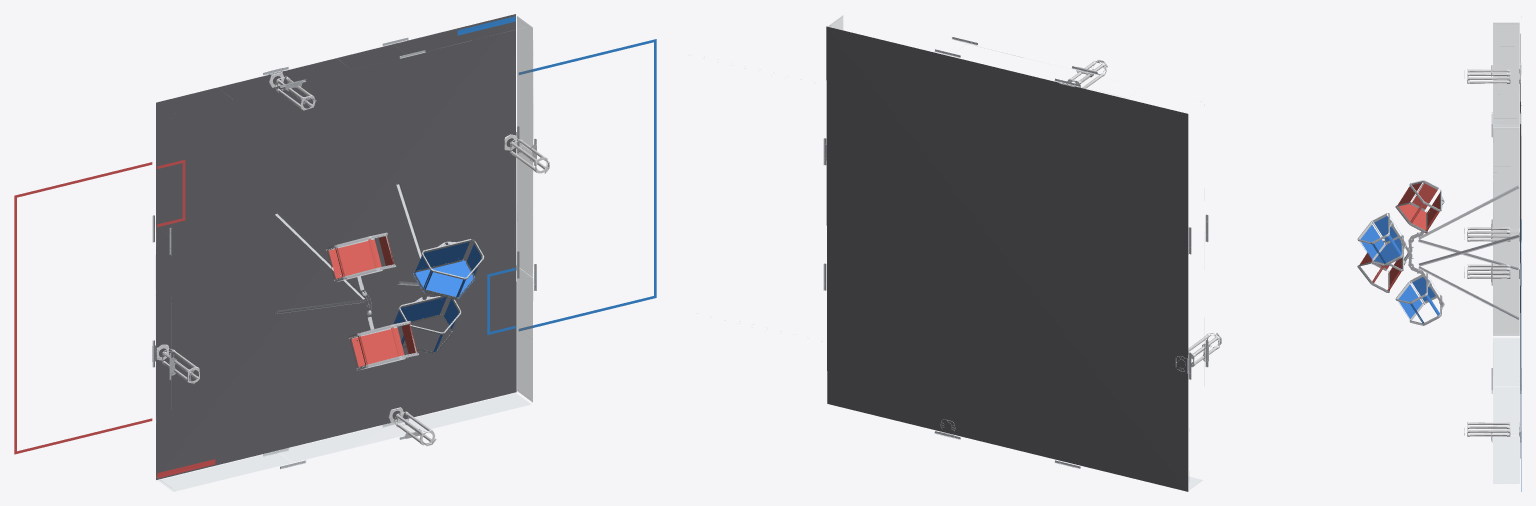
File: field.glb
3 views of the same model, side by side, from view 1: azimuth 30°, elevation 25°; view 2: azimuth 150°, elevation 25°; view 3: azimuth 270°, elevation 25° (orthographic). The views are drawn at different scales.
Parts seen in each view (by area): view 1: tiles, walls, tape, hive_blue/tray, hive_red/tray, hive_red/frame, flower_1, flower_0, flower_2, flower_3; view 2: tiles, walls; view 3: walls, hive_blue/tray, hive_red/tray, hive_blue/frame, hive_red/frame, flower_2, flower_1, flower_3, flower_0, tiles, tape.
Part boxes in pixels (x1,y1,x2,y2): tiles: (156,14,516,479); walls: (152,16,536,491); tape: (14,16,656,478); hive_blue/tray: (393,239,484,354); hive_red/tray: (325,232,418,370); hive_red/frame: (275,212,416,364); flower_1: (268,68,316,110); flower_0: (152,344,199,383); flower_2: (504,132,549,173); flower_3: (388,407,436,445); tiles: (826,26,1188,491); walls: (823,15,1208,490); walls: (1491,22,1521,483); hive_blue/tray: (1357,213,1444,325); hive_red/tray: (1357,180,1444,292); hive_blue/frame: (1373,223,1519,320); hive_red/frame: (1373,183,1519,281); flower_2: (1464,264,1519,281); flower_1: (1464,65,1521,83); flower_3: (1464,422,1520,440); flower_0: (1464,224,1519,241); tiles: (1520,34,1521,458); tape: (1521,105,1521,491).
Bounding box in the file's own units: 251 × 144 × 66.66.
